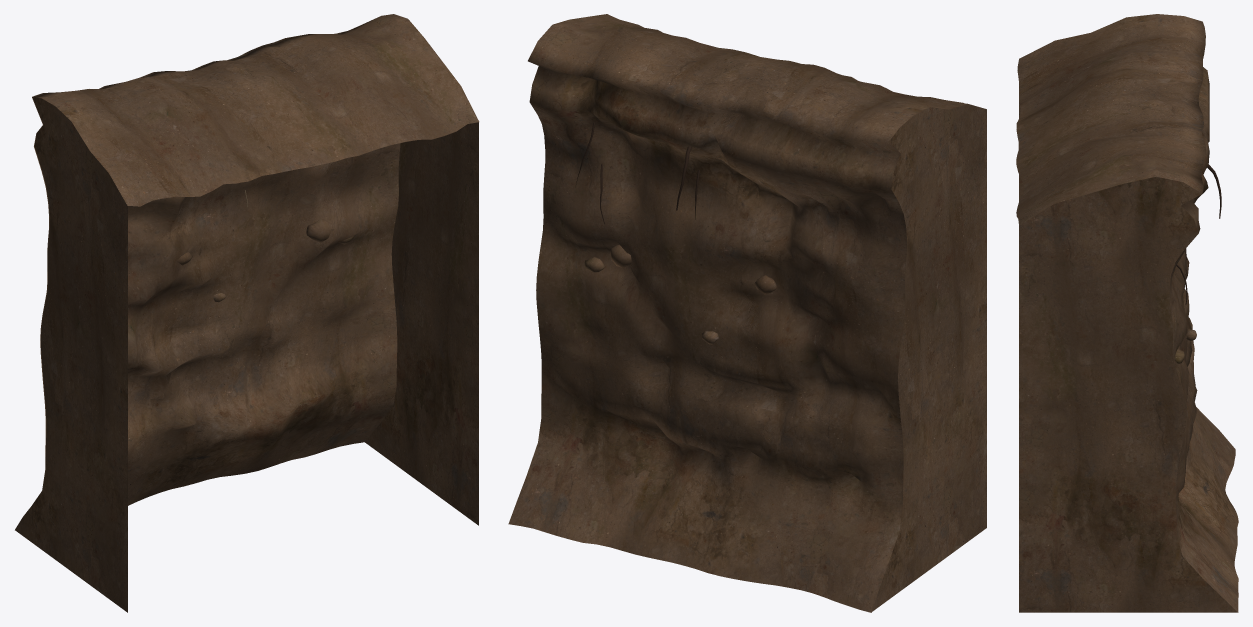
File: S7U_EarthBank_2m_B.fbx
3 views of the same model, side by side, from view 1: azimuth 30°, elevation 25°; view 2: azimuth 150°, elevation 25°; view 3: azimuth 270°, elevation 25° (orthographic). The views are drawn at different scales.
Parts seen in each view (by area): view 1: S7U_EarthBank_2m_B; view 2: S7U_EarthBank_2m_B; view 3: S7U_EarthBank_2m_B.
Part boxes in pixels (bbox=[...]): S7U_EarthBank_2m_B: bbox=[15, 14, 479, 612]; S7U_EarthBank_2m_B: bbox=[508, 14, 986, 612]; S7U_EarthBank_2m_B: bbox=[1016, 14, 1238, 612].
Size of the model in its own units: 2 by 2.49 by 1.14.
